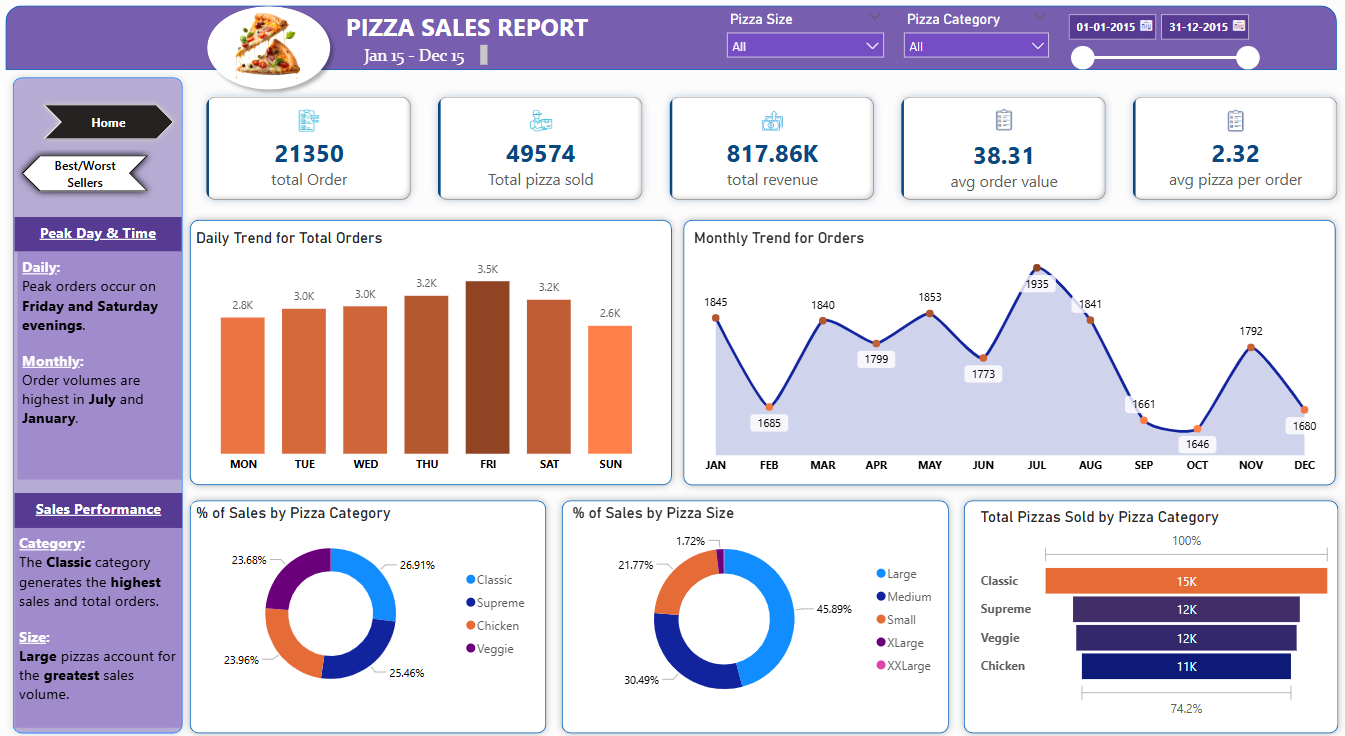

The dashboard page shown, as its layout file describes it:
{"tool":"powerbi","page":{"name":"Home","canvas":[1500,820],"ordinal":0},"visuals":[{"type":"shape","box":[8.8,78.8,203.8,741.2],"z":0},{"type":"cardVisual","fields":{"Data":["pizza_sales pizza_sales.total Order","pizza_sales pizza_sales.Total pizza sold","pizza_sales pizza_sales.total revenue","pizza_sales pizza_sales.avg order value","pizza_sales pizza_sales.avg pizza per order"]},"box":[214.3,92.1,1285.7,146],"z":1000},{"type":"shape","box":[8.6,8.6,1471.4,71.4],"z":2000},{"type":"textbox","box":[272,8,493,70],"z":3000},{"type":"textbox","box":[382.9,47.1,162.9,32.9],"z":4000},{"type":"shape","box":[203.2,236.5,549.2,309.5],"z":5000},{"type":"columnChart","title":" Daily Trend for Total Orders","fields":{"Category":["pizza_sales pizza_sales.Order day"],"Y":["pizza_sales pizza_sales.total Order"]},"box":[214.2,255,520.8,278.3],"z":6000},{"type":"shape","box":[750,237.1,737.1,309.7],"z":7000},{"type":"areaChart","title":"Monthly Trend for Orders","fields":{"Category":["pizza_sales pizza_sales.Order month"],"Y":["pizza_sales pizza_sales.total Order"]},"box":[764.5,254.8,708.1,279],"z":8000},{"type":"shape","box":[203.8,546.2,410,273.8],"z":9000},{"type":"shape","box":[615,546.2,443.8,273.8],"z":10000},{"type":"shape","box":[1058.8,546.2,430,273.8],"z":11000},{"type":"donutChart","title":"% of Sales by Pizza Category","fields":{"Category":["pizza_sales pizza_sales.pizza_category"],"Y":["pizza_sales pizza_sales.total revenue"]},"box":[213.8,558.8,382.5,223.8],"z":12000},{"type":"shape","box":[222,0,154,110],"z":12500,"group":"g1"},{"type":"donutChart","title":"% of Sales by Pizza Size","fields":{"Category":["pizza_sales pizza_sales.pizza_size"],"Y":["pizza_sales pizza_sales.total revenue"]},"box":[629.5,559,416.7,235.9],"z":13000},{"type":"funnel","title":"Total Pizzas Sold by Pizza Category","fields":{"Category":["pizza_sales pizza_sales.pizza_category"],"Y":["pizza_sales pizza_sales.Total pizza sold"]},"box":[1081.4,564.3,398.6,235.7],"z":14000},{"type":"textbox","box":[18.9,242.2,184.4,37.8],"z":15000},{"type":"textbox","box":[22.2,280,181.1,252.2],"z":16000},{"type":"textbox","box":[17.8,546.7,185.6,38.9],"z":17000},{"type":"textbox","box":[17.8,585.6,185.6,221.1],"z":18000},{"type":"slicer","fields":{"Values":["pizza_sales pizza_sales.pizza_category"]},"box":[991,8,180,72],"z":19000},{"type":"slicer","fields":{"Values":["pizza_sales pizza_sales.pizza_size"]},"box":[796,9,193,71],"z":20000},{"type":"slicer","fields":{"Values":["pizza_sales pizza_sales.order_date"]},"box":[1171,9,232,72],"z":21000},{"type":"pageNavigator","box":[41.8,110,161.8,55.5],"z":22000},{"type":"pageNavigator","box":[18.2,165.5,156.4,56.4],"z":23000},{"type":"image","box":[239.1,8,119.8,92],"z":25000,"group":"g1"},{"type":"group","id":"g1","title":"Group 1","box":[222,0,154,110],"z":25001}]}

Visuals, with their boxes in screenshot pixels (x1, y1, x2, y2), scaled from the page's 1500x820 canvas onto the 1345x736 screenshot:
shape: 8, 71, 191, 735
cardVisual - pizza_sales pizza_sales.total Order x pizza_sales pizza_sales.Total pizza sold: 192, 83, 1344, 214
shape: 8, 8, 1327, 72
textbox: 244, 7, 686, 70
textbox: 343, 42, 489, 72
shape: 182, 212, 675, 490
" Daily Trend for Total Orders" columnChart: 192, 229, 659, 479
shape: 672, 213, 1333, 491
"Monthly Trend for Orders" areaChart: 686, 229, 1320, 479
shape: 183, 490, 550, 735
shape: 551, 490, 949, 735
shape: 949, 490, 1335, 735
"% of Sales by Pizza Category" donutChart: 192, 502, 535, 702
shape: 199, 0, 337, 99
"% of Sales by Pizza Size" donutChart: 564, 502, 938, 713
"Total Pizzas Sold by Pizza Category" funnel: 970, 506, 1327, 718
textbox: 17, 217, 182, 251
textbox: 20, 251, 182, 478
textbox: 16, 491, 182, 526
textbox: 16, 526, 182, 724
slicer - pizza_sales pizza_sales.pizza_category: 889, 7, 1050, 72
slicer - pizza_sales pizza_sales.pizza_size: 714, 8, 887, 72
slicer - pizza_sales pizza_sales.order_date: 1050, 8, 1258, 73
pageNavigator: 37, 99, 183, 149
pageNavigator: 16, 149, 157, 199
image: 214, 7, 322, 90
"Group 1" group: 199, 0, 337, 99
